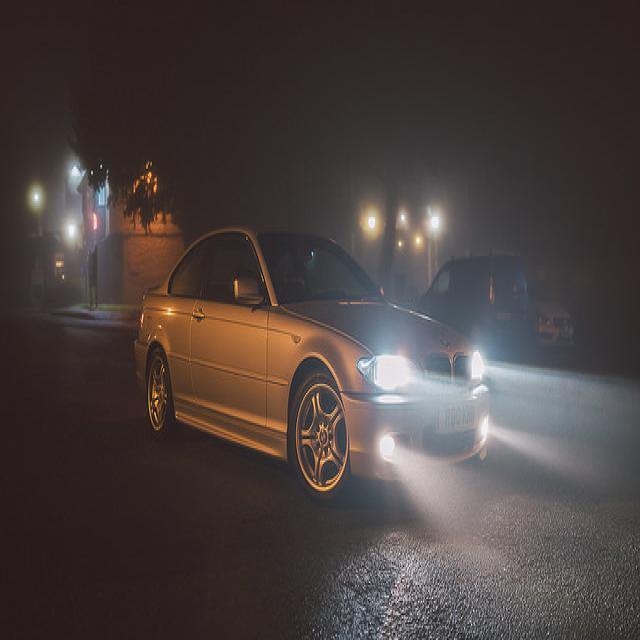Car: (101, 244, 515, 575), (428, 231, 526, 370), (521, 272, 588, 358)
